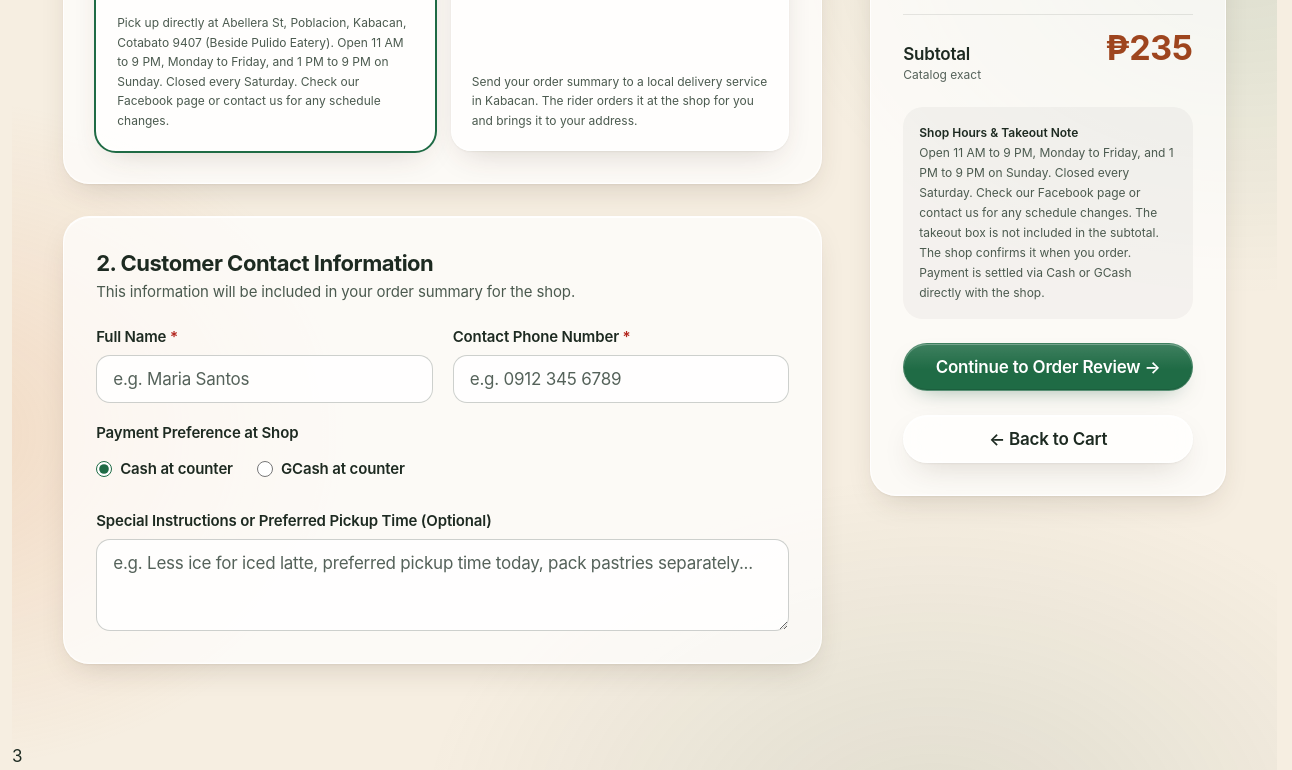
Test: Place order at checkout › TC-P4-097 — with online ordering off, pickup keeps the copied summary
(page scrolled)
Type "Pedro Penduko" into the field labelled "Full Name *" at [264, 379], box left=96, top=355, right=433, bottom=403
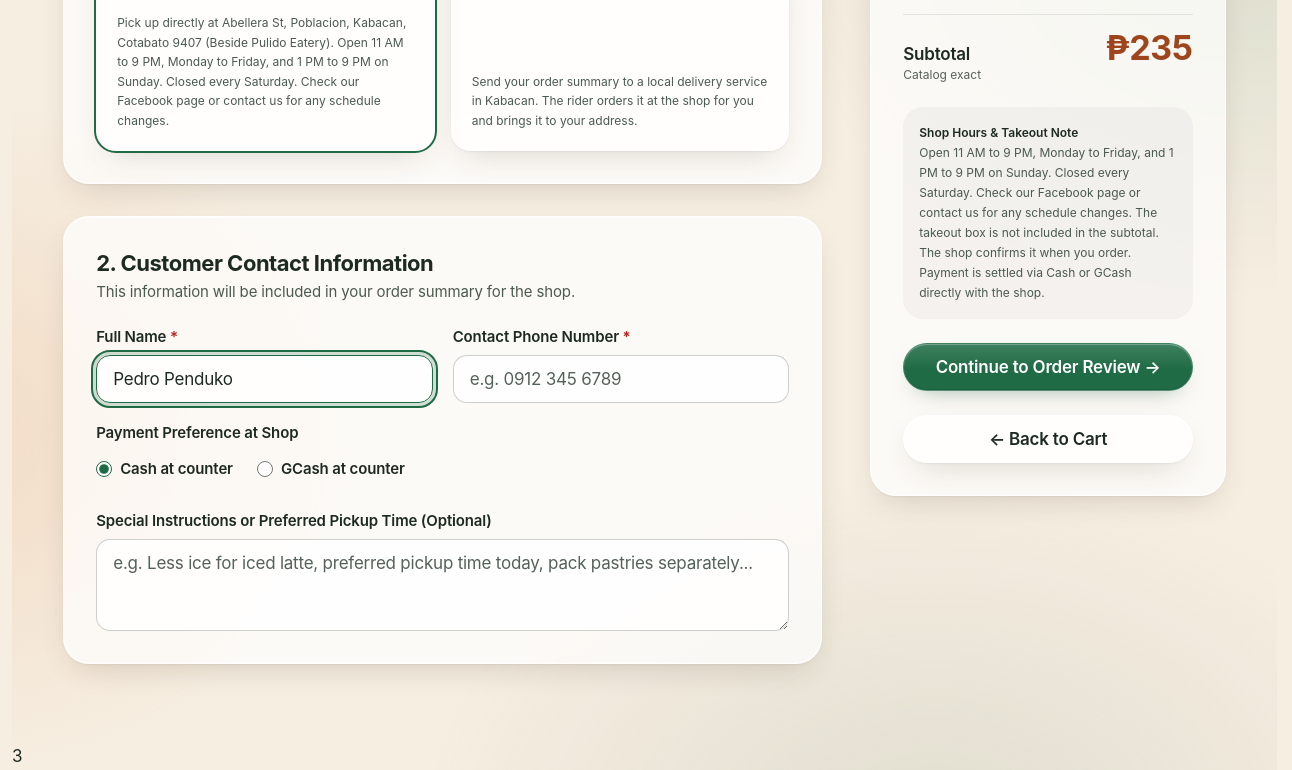
Type "0927 987 6543" into the field labelled "Contact Phone Number *" at [621, 379], box left=453, top=355, right=789, bottom=403
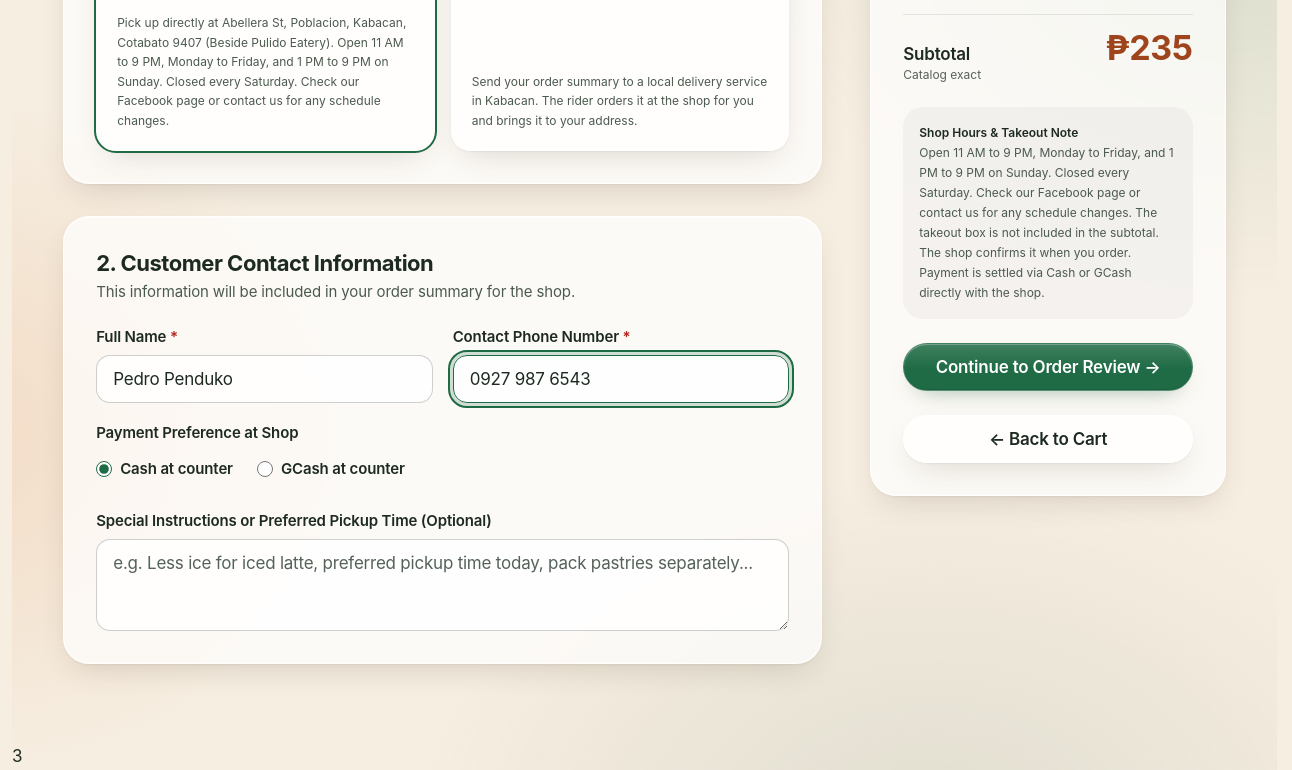
Click the button "Continue to Order Review →" at [1048, 367], box left=903, top=343, right=1193, bottom=391
(page scrolled)
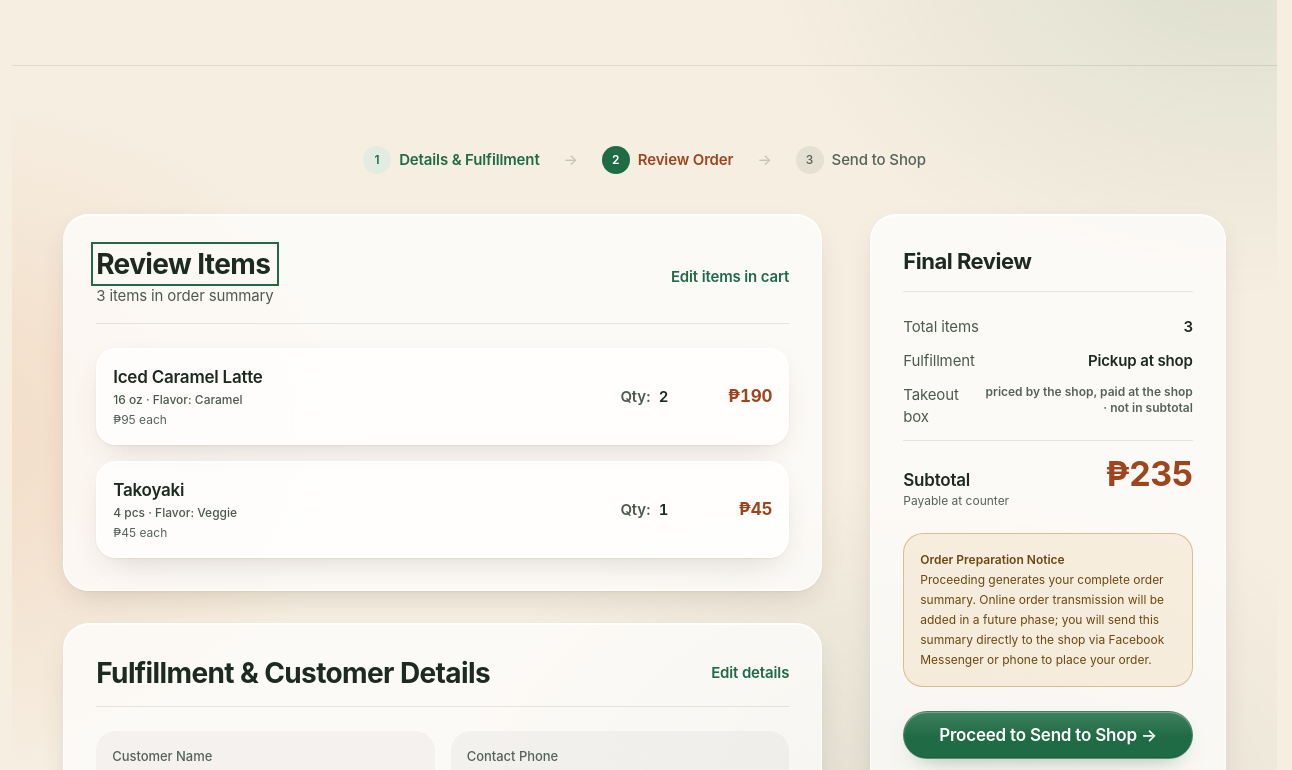
expect the button "Proceed to Send to Shop →" is shown: met, box left=903, top=711, right=1193, bottom=759
